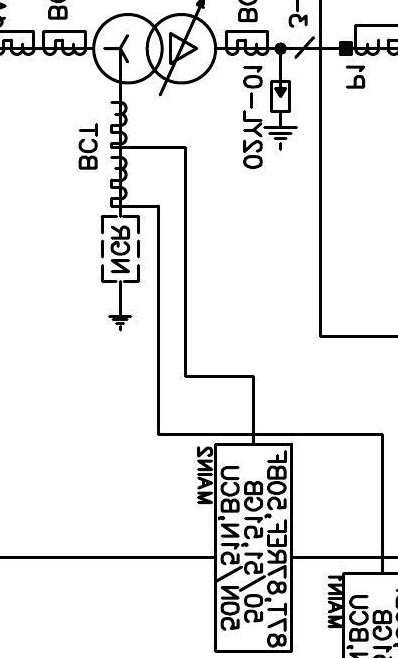11522_tx_dyn1: (91, 12, 218, 85)
115_la: (262, 79, 299, 152)
NGR_future: (100, 214, 141, 332)
